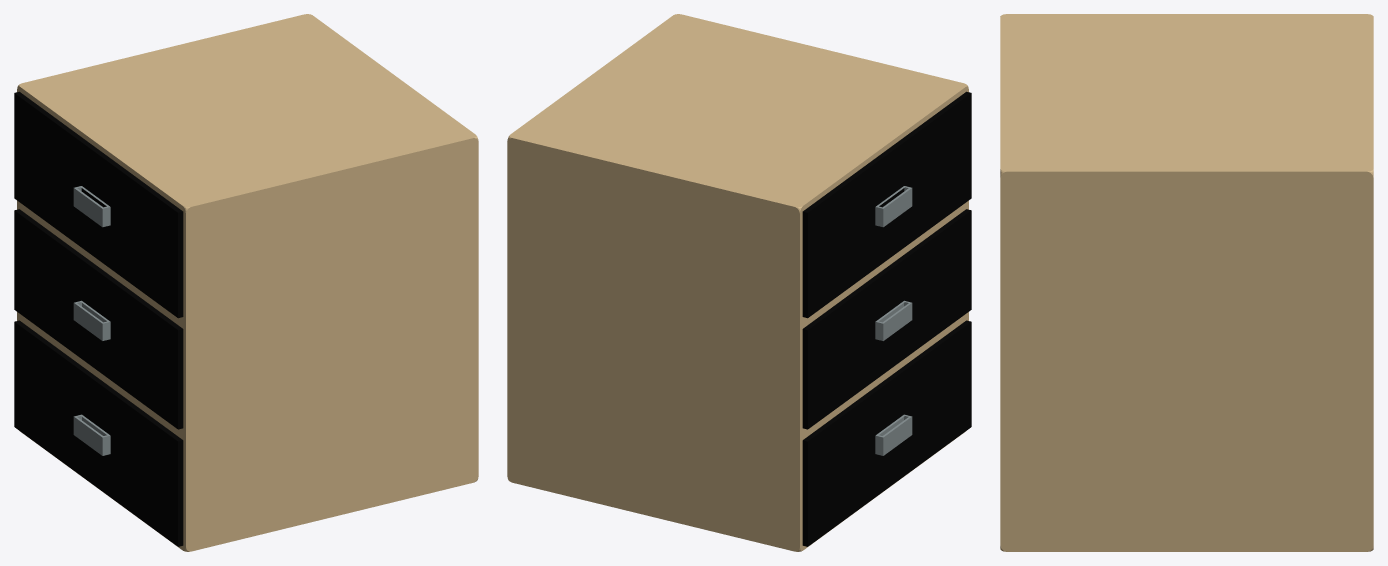
The model's file is Mesa_de_noche.fbx.
The picture shows the model from 3 angles, left to right: view 1: azimuth 30°, elevation 25°; view 2: azimuth 150°, elevation 25°; view 3: azimuth 270°, elevation 25°; orthographic projection. The views are drawn at different scales.
Visible parts, largest first — view 1: Cube, Cajon_arriba, Cajon_abajo, Cajon_medio; view 2: Cube, Cajon_arriba, Cajon_abajo, Cajon_medio; view 3: Cube.
Part boxes in pixels (<box>): Cube: <box>17,14,478,551</box>; Cajon_arriba: <box>14,91,183,318</box>; Cajon_abajo: <box>14,320,183,546</box>; Cajon_medio: <box>14,209,183,429</box>; Cube: <box>507,14,968,551</box>; Cajon_arriba: <box>802,91,971,318</box>; Cajon_abajo: <box>802,320,971,546</box>; Cajon_medio: <box>802,209,971,429</box>; Cube: <box>1000,14,1373,551</box>.
Size of the model in its own units: 167 by 180 by 160.
